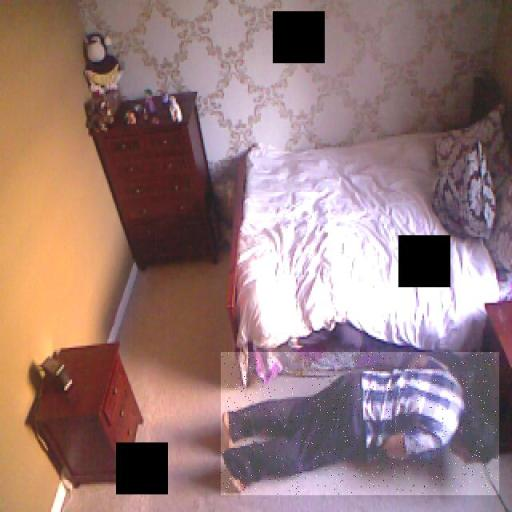Fall: (221, 352, 499, 495)
